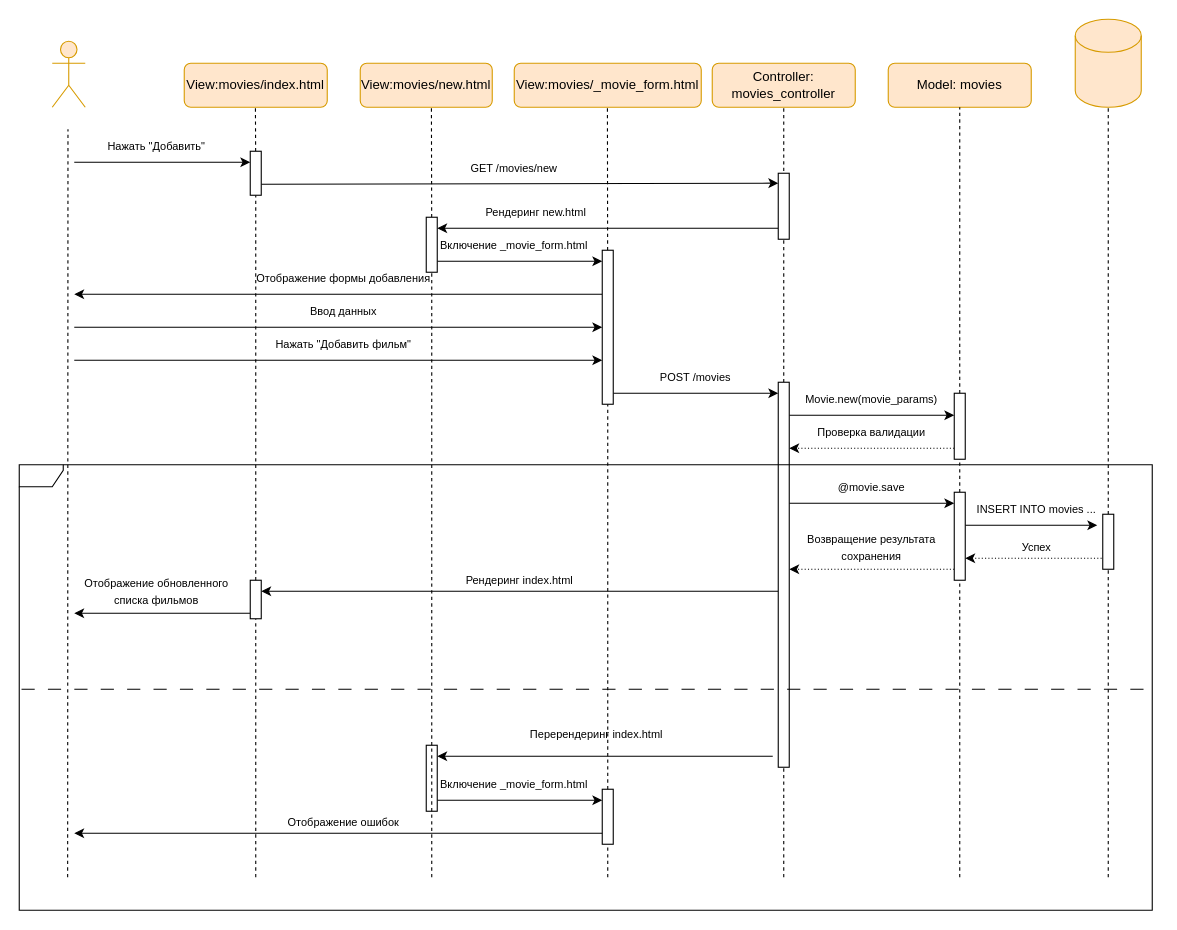
This 1177x930 diagram has some shape labels left out. Here are the shapes that lost their labels. From the top down, the box of each, then its label:
(51, 40, 85, 107): User
(1074, 18, 1141, 107): DB
(18, 464, 1152, 910): alt
